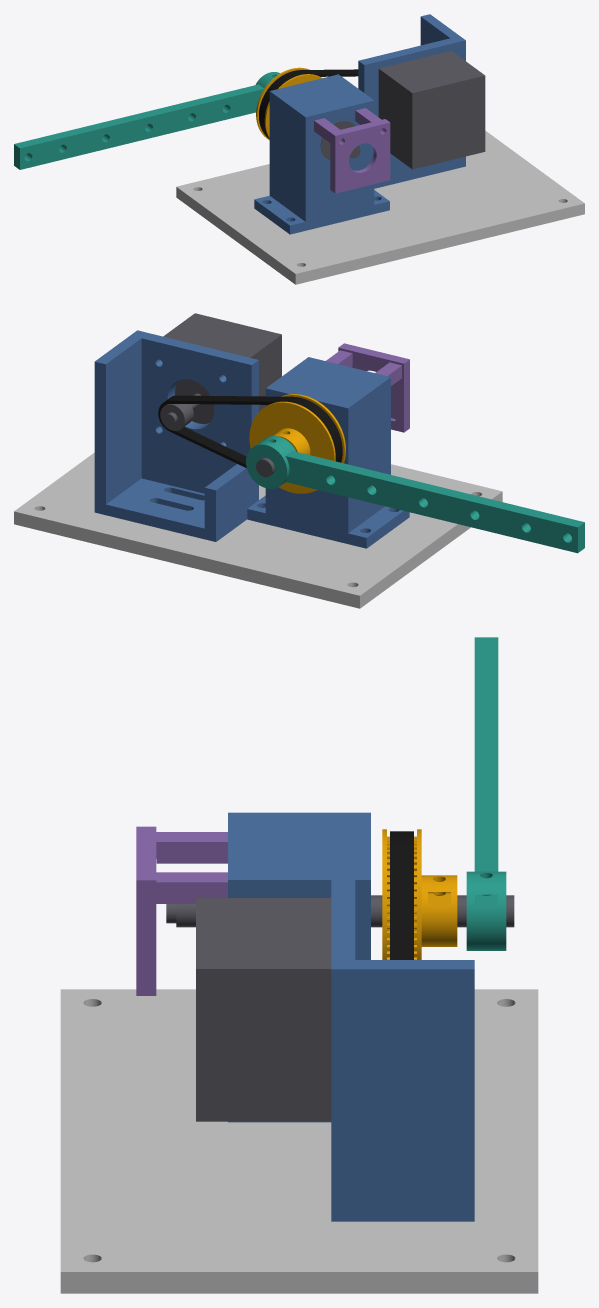
Rendered from test_joint_rig_assembly.glb.
The picture shows the model from 3 angles, top to bottom: view 1: azimuth 30°, elevation 25°; view 2: azimuth 150°, elevation 25°; view 3: azimuth 270°, elevation 25°; orthographic projection. The views are drawn at different scales.
Parts seen in each view (by area): view 1: base_plate, bearing_block, ref_motor, lever_arm, motor_bracket, encoder_bracket, ref_belt, output_pulley_60T; view 2: motor_bracket, base_plate, bearing_block, lever_arm, ref_motor, output_pulley_60T, ref_belt, encoder_bracket, ref_pulley20; view 3: base_plate, motor_bracket, ref_motor, bearing_block, lever_arm, encoder_bracket, output_pulley_60T, ref_belt, ref_shaft_8mm.
Part boxes in pixels (<box>): base_plate: <box>176,131,584,284</box>; bearing_block: <box>254,74,389,234</box>; ref_motor: <box>378,51,485,169</box>; lever_arm: <box>14,72,279,169</box>; motor_bracket: <box>358,14,465,188</box>; encoder_bracket: <box>314,108,390,193</box>; ref_belt: <box>259,69,358,138</box>; output_pulley_60T: <box>256,67,322,140</box>; motor_bracket: <box>94,330,258,541</box>; base_plate: <box>14,452,502,608</box>; bearing_block: <box>247,357,409,548</box>; lever_arm: <box>246,436,584,553</box>; ref_motor: <box>163,313,281,425</box>; output_pulley_60T: <box>249,394,345,493</box>; ref_belt: <box>158,395,342,467</box>; encoder_bracket: <box>326,343,409,432</box>; ref_pulley20: <box>160,404,193,430</box>; base_plate: <box>60,989,538,1293</box>; motor_bracket: <box>331,870,474,1221</box>; ref_motor: <box>196,898,331,1121</box>; bearing_block: <box>228,812,370,1122</box>; lever_arm: <box>466,637,506,950</box>; encoder_bracket: <box>136,826,227,995</box>; output_pulley_60T: <box>382,829,457,959</box>; ref_belt: <box>390,831,413,959</box>; ref_shaft_8mm: <box>176,895,514,927</box>.
Size of the model in its own units: 268 by 76 by 120.
